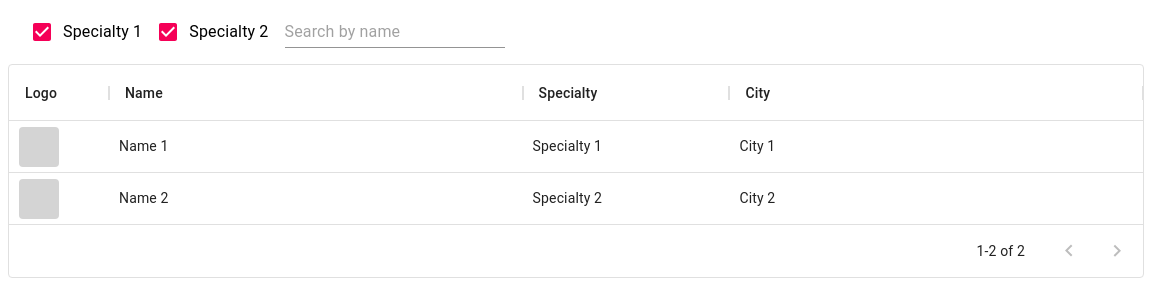
CompaniesDataGrid › search by name
The image size is (1164, 295).
Type "Name 1" into the search field with placeholder "Search by name" at (394, 32), box [284,16,504,48]
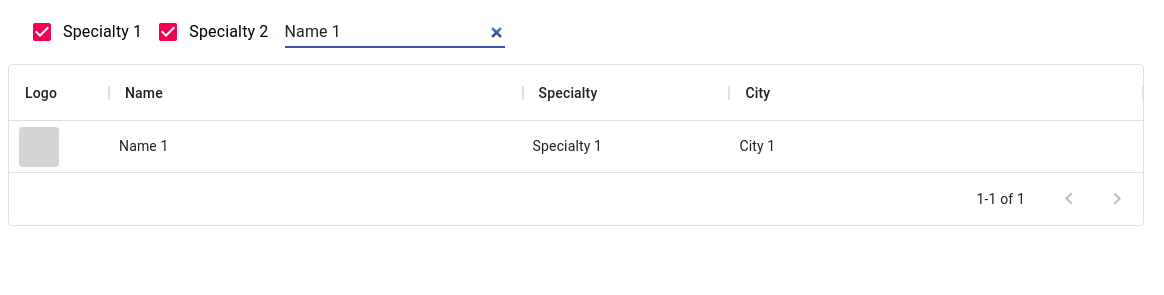
Expected: the cell "Name 1" is shown, [109,121,523,173]
Now the cell "Name 2" is gone
